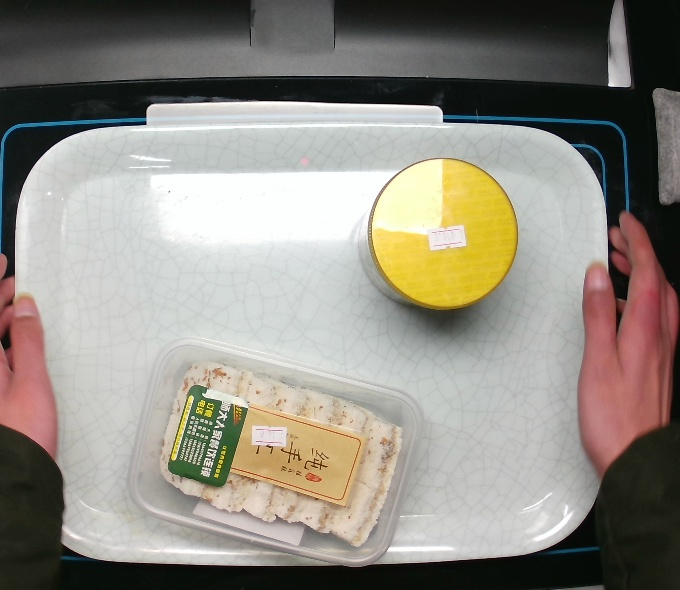wcq-GuiHuaGao: (123, 332, 425, 569)
wcq-MaiYaTang: (351, 151, 523, 319)
